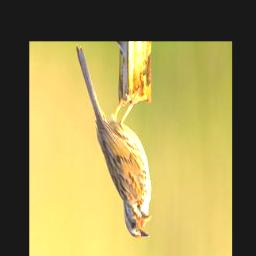Sparrow: (75, 47, 151, 241)
